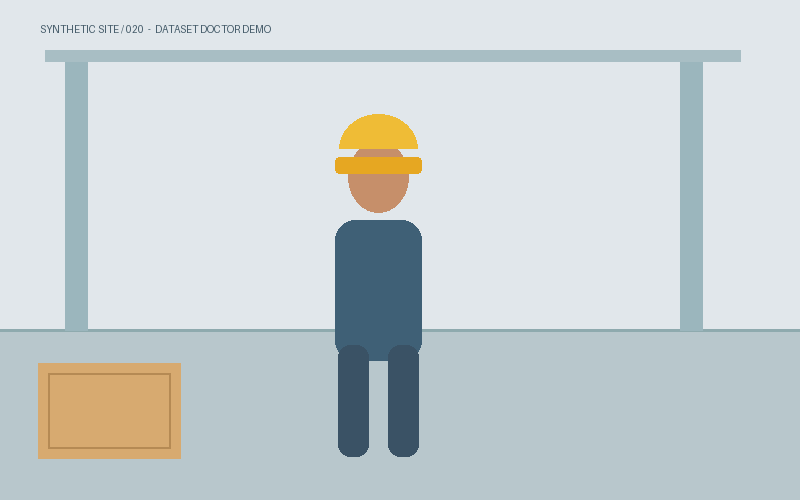Safety-Helmet: (335, 127, 421, 173)
